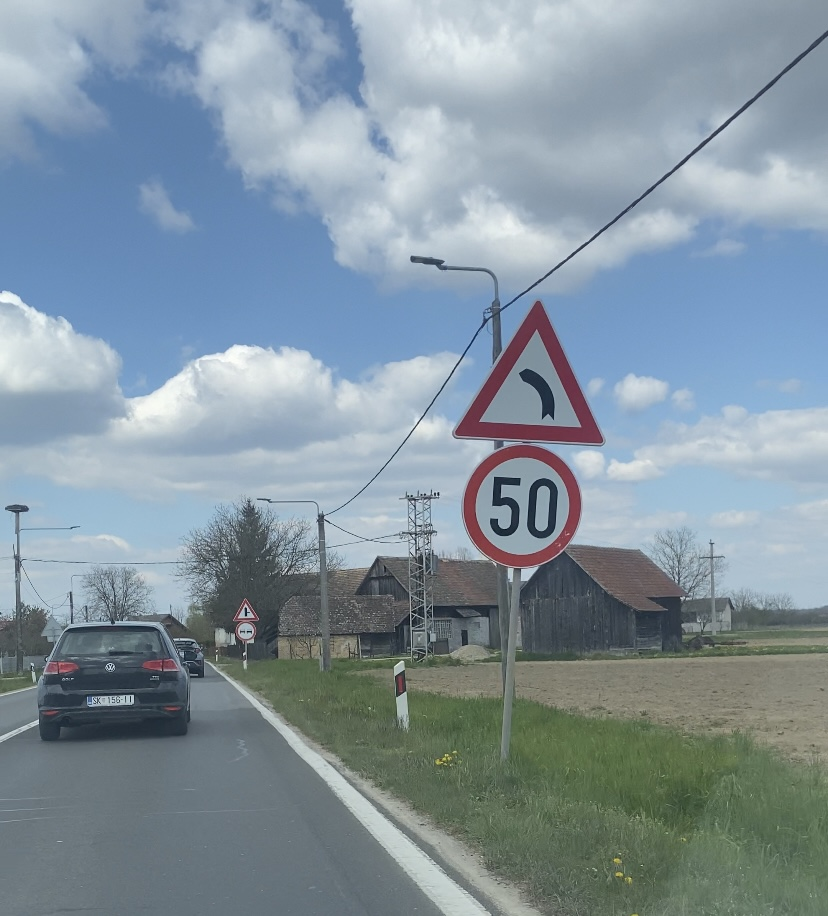Ograničenje brzine 50: (462, 444, 583, 568)
Zabrana pretjecanja: (236, 622, 256, 641)
